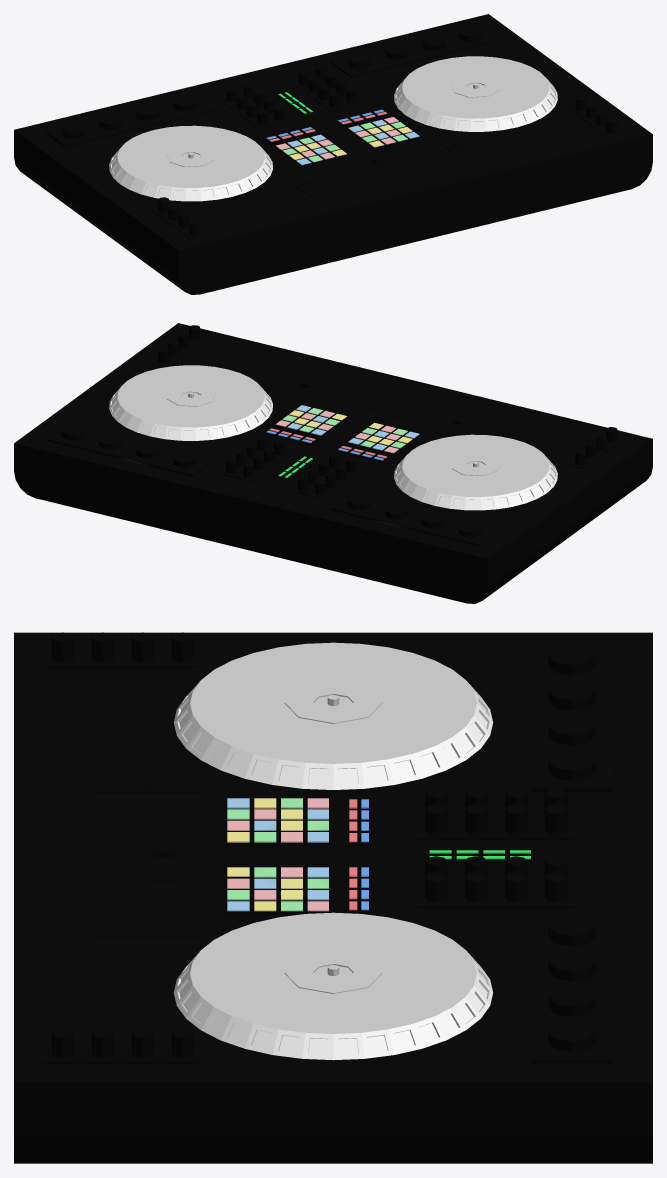
Rendered from turntable.fbx.
The picture shows the model from 3 angles, top to bottom: view 1: azimuth 30°, elevation 25°; view 2: azimuth 150°, elevation 25°; view 3: azimuth 270°, elevation 25°; orthographic projection. The views are drawn at different scales.
Parts seen in each view (by area): view 1: mesa, discos; view 2: mesa, discos; view 3: mesa, discos.
Boxes of the visible parts, x1,y1,x2,y2 form: mesa: (14, 14, 652, 294); discos: (109, 56, 557, 201); mesa: (14, 323, 652, 603); discos: (109, 365, 557, 510); mesa: (14, 632, 652, 1163); discos: (173, 642, 493, 1060).
Size of the model in its own units: 100 by 12.63 by 60.
